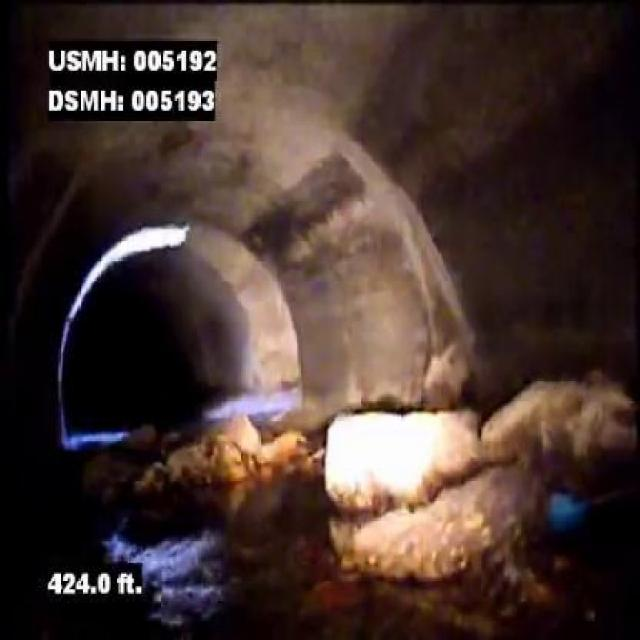Obstacle: (318, 376, 637, 590), (122, 408, 263, 500)
